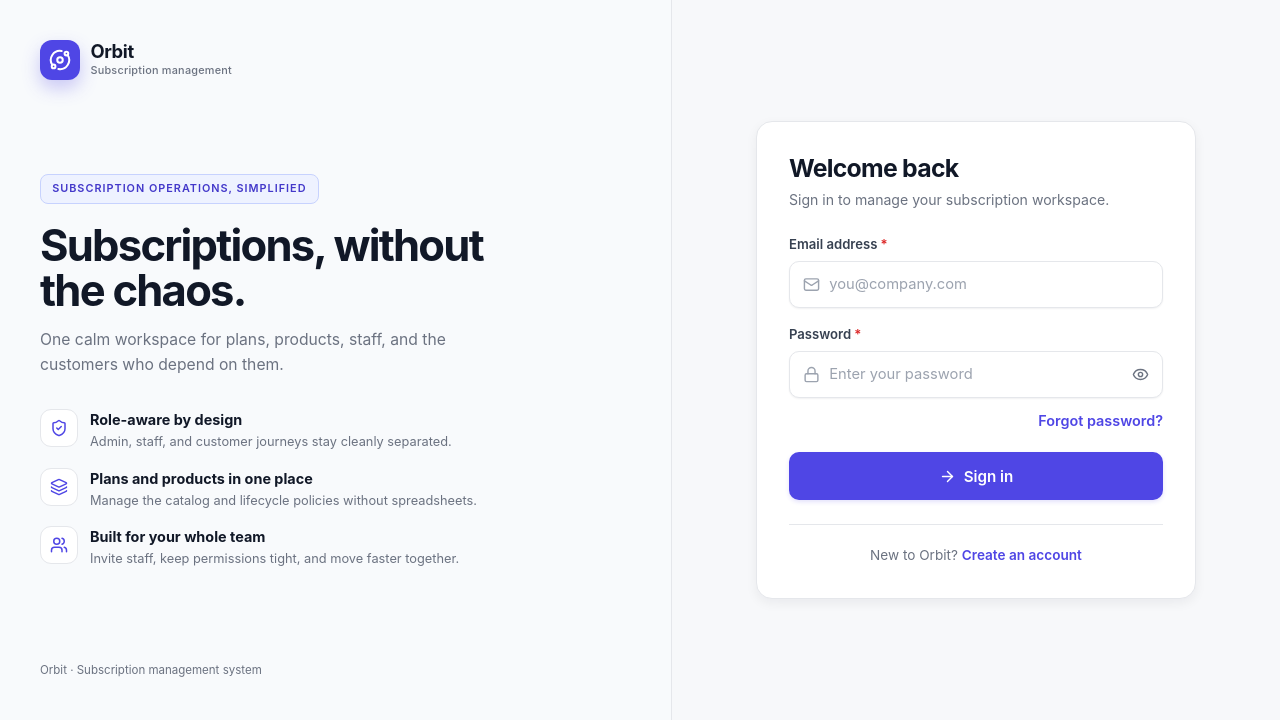
LoginPage › shows validation messages for an empty form
Click the button "Sign in": [976, 476] box 789,452 -> 1163,500
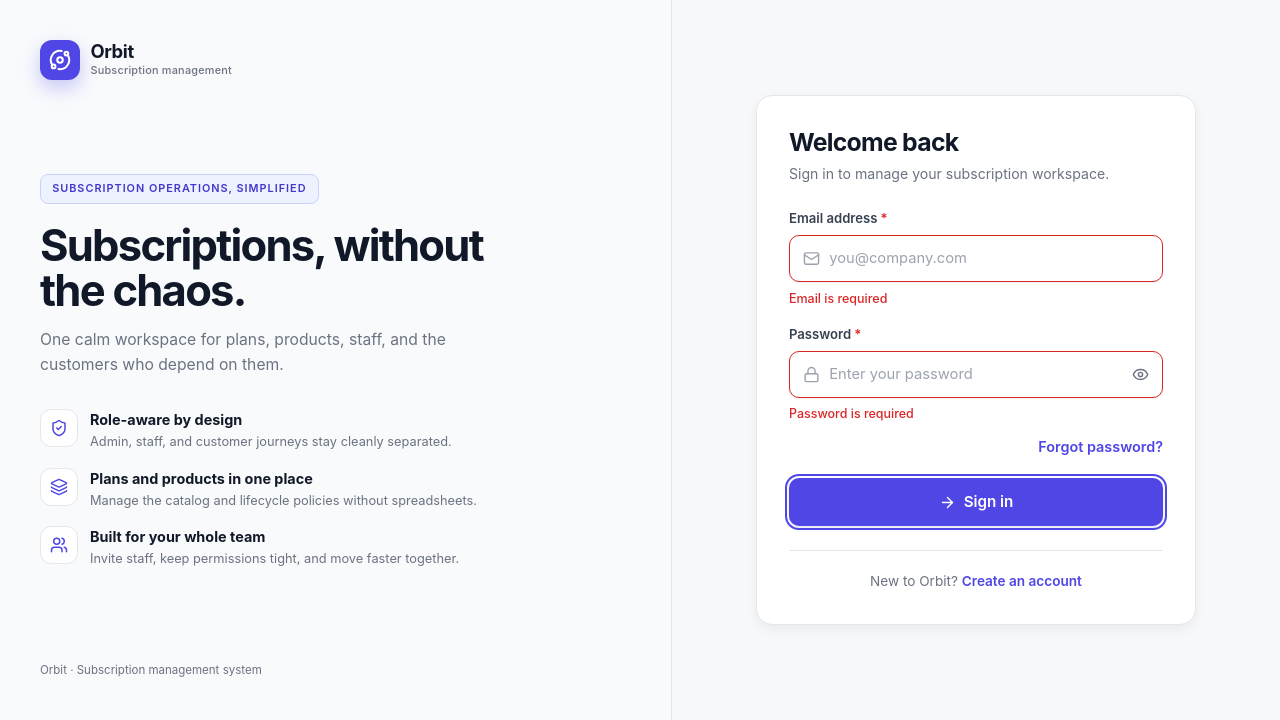
Check: the text "Email is required" is shown, box 789,291 -> 887,306
Check: the text "Password is required" is shown, box 789,406 -> 914,421
